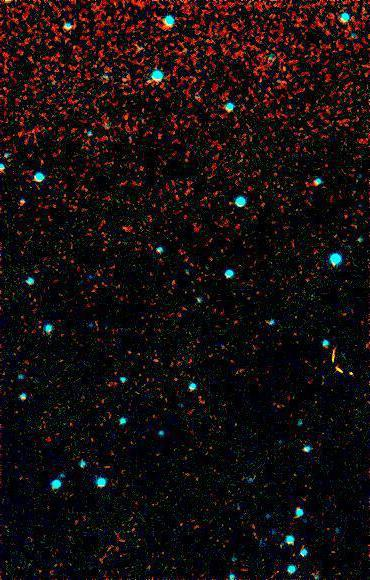star: (114, 100, 144, 130)
